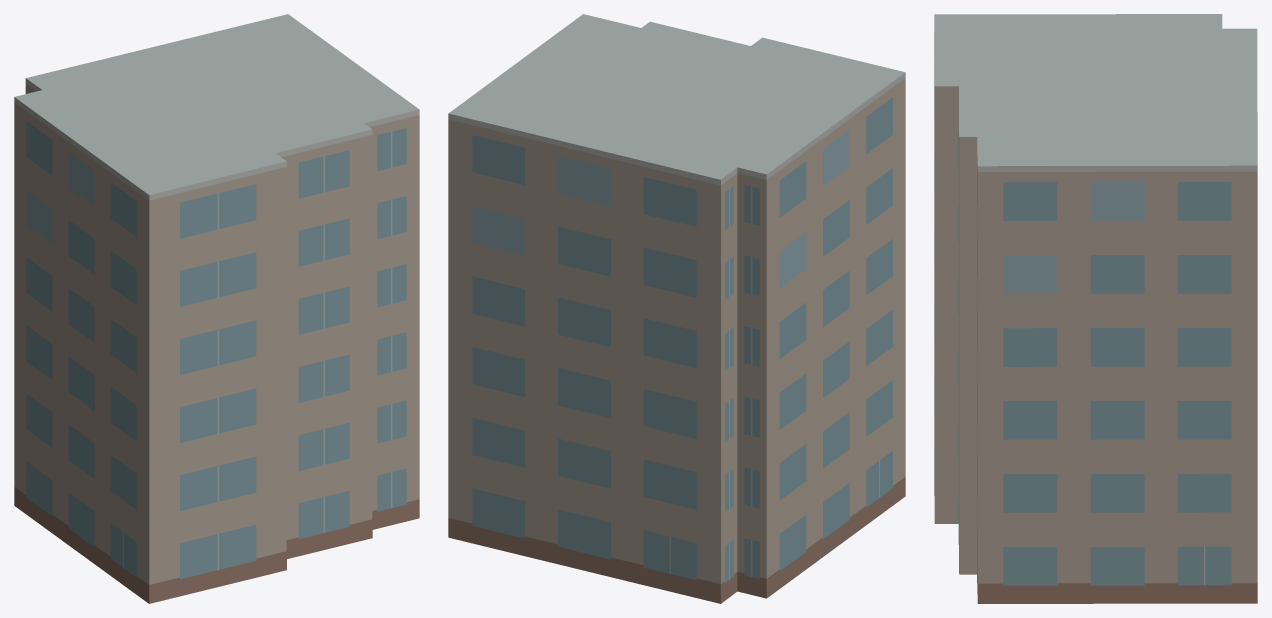
Rendered from survey-upis-32667162.glb.
3 renders of one model, left to right at view 1: azimuth 30°, elevation 25°; view 2: azimuth 150°, elevation 25°; view 3: azimuth 270°, elevation 25°, orthographic. The views are drawn at different scales.
Visible parts, largest first — view 1: survey-upis-32667162.tmp; view 2: survey-upis-32667162.tmp; view 3: survey-upis-32667162.tmp.
Boxes of the visible parts, x1,y1,x2,y2 form: survey-upis-32667162.tmp: (14, 14, 419, 603); survey-upis-32667162.tmp: (448, 14, 905, 603); survey-upis-32667162.tmp: (934, 14, 1257, 603).
Bounding box in the file's own units: 13.65 × 18.3 × 12.26.
